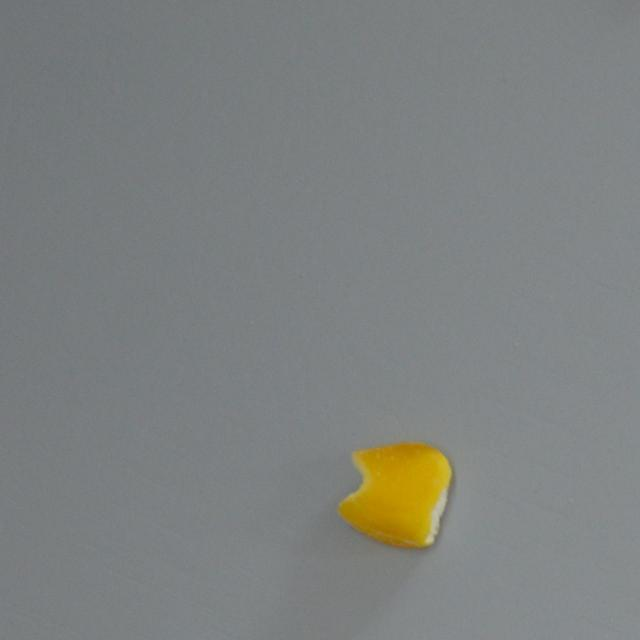no_canjicado: (336, 442, 454, 548)
